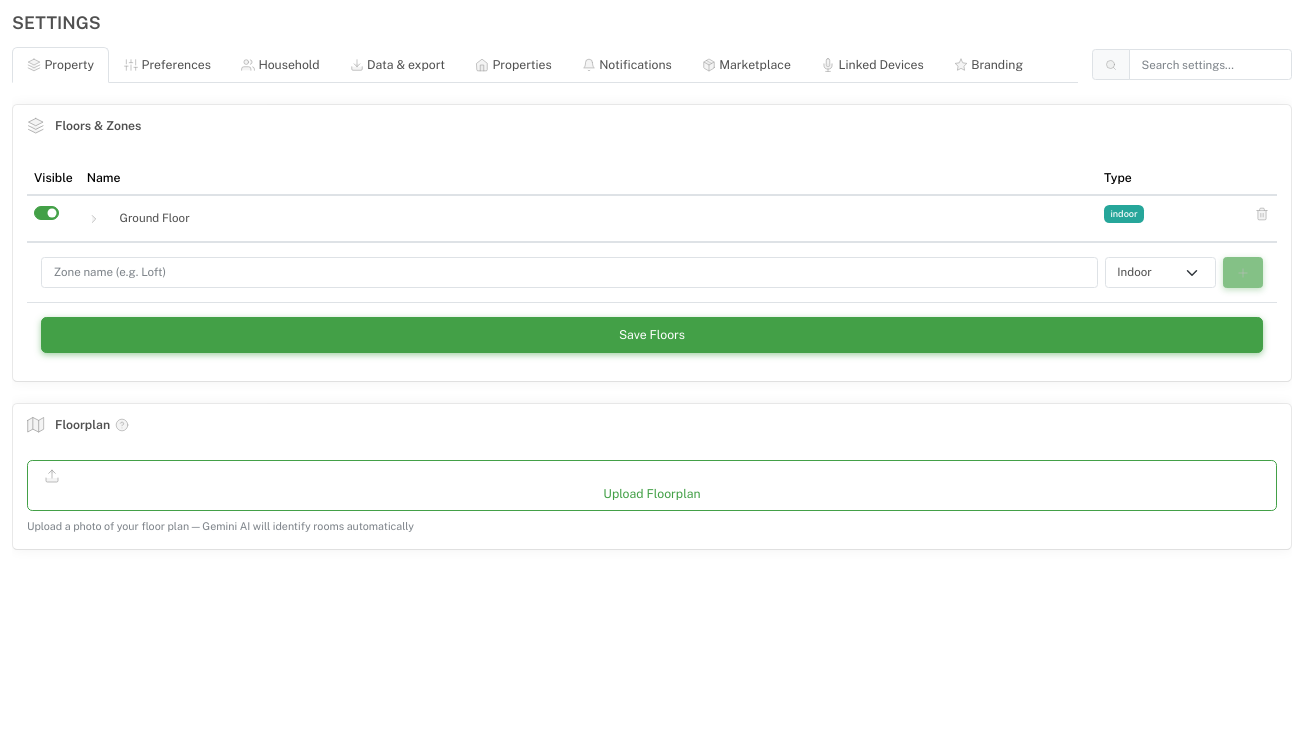
Test: SettingsPage tabs › shows all sections again when search is cleared
Type "xyz_no_match" into the field labelled "Search settings…" at [1210, 65], box [1129,49,1292,80]
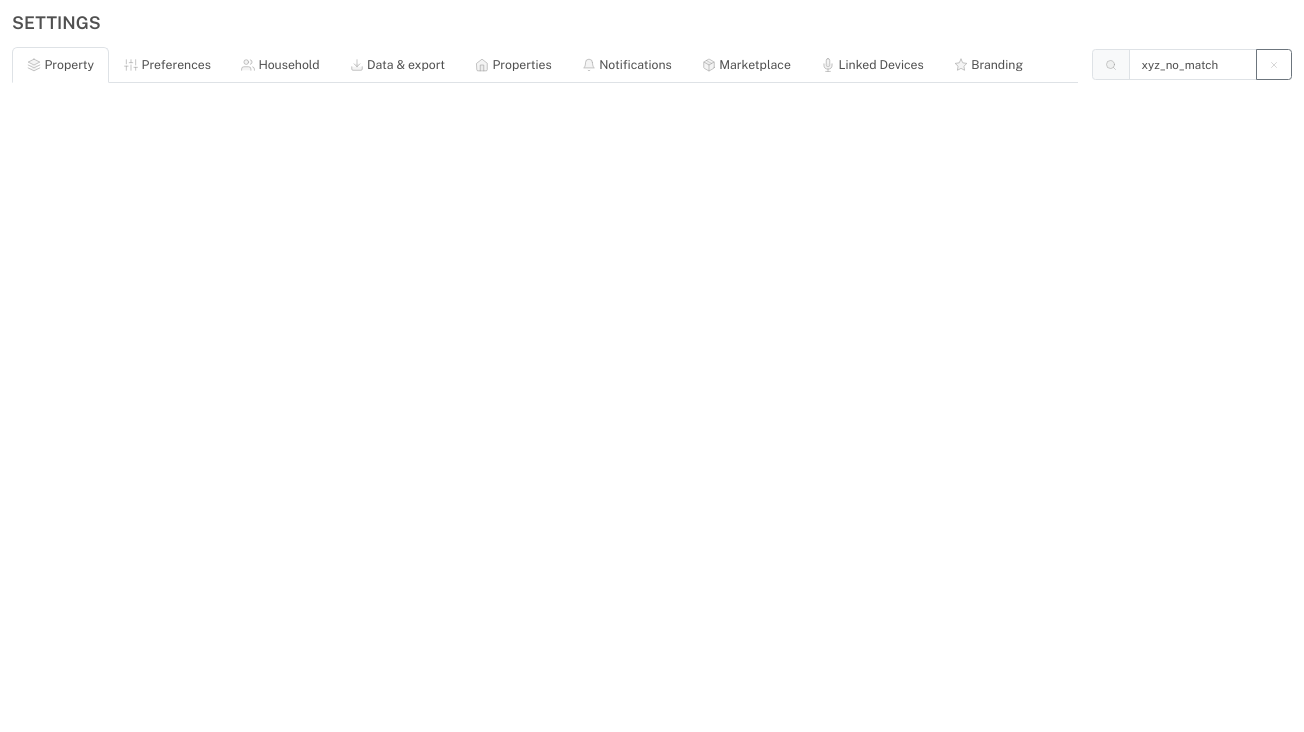
Now the text "Floors & Zones" is gone
Clear the field named "Search settings" at [1193, 65], box [1129,49,1257,80]
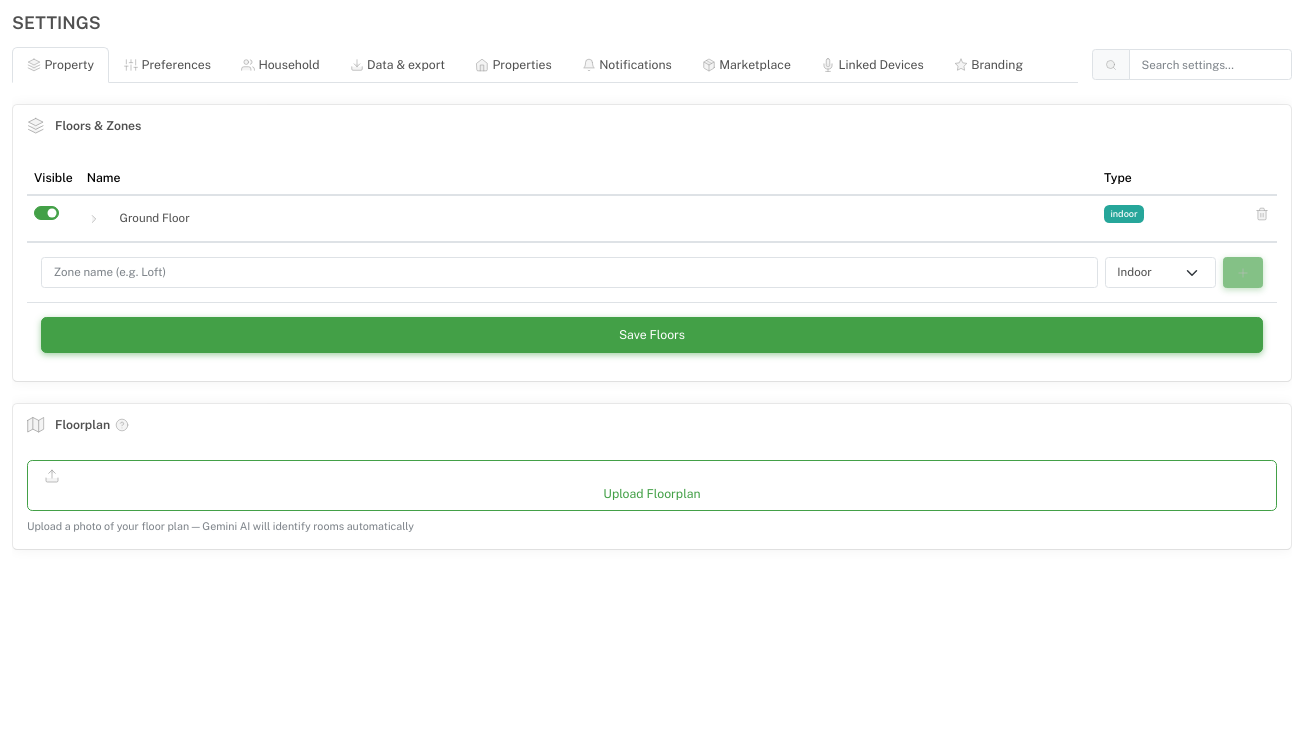
Now the text "Floors & Zones" is shown, box [27,117,141,134]
